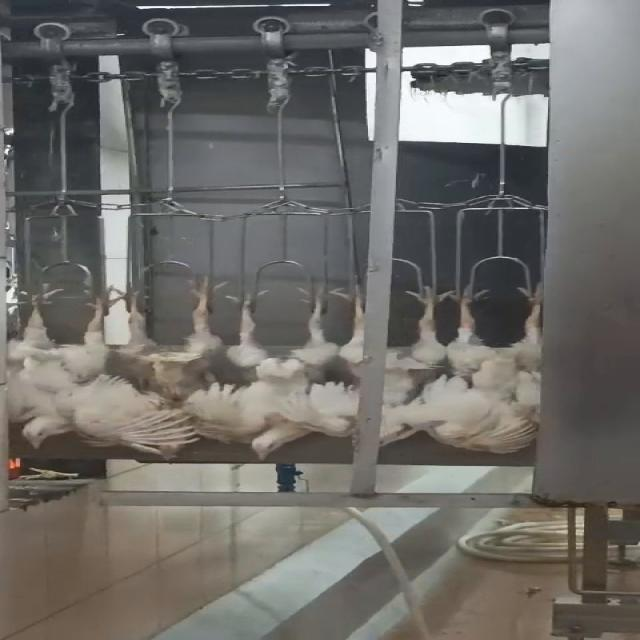chicken: (0, 284, 191, 458), (311, 286, 464, 453), (222, 285, 347, 462), (425, 284, 547, 460), (116, 275, 232, 413)
